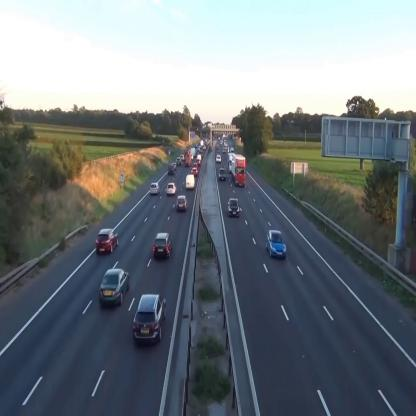car: (132, 292, 166, 343), (99, 267, 130, 308), (95, 228, 118, 256), (266, 229, 286, 259), (153, 233, 173, 259), (228, 198, 239, 217), (176, 194, 187, 212), (150, 182, 160, 195), (166, 183, 176, 195), (218, 168, 226, 181), (167, 164, 174, 174), (192, 167, 198, 176), (216, 155, 221, 163), (176, 157, 181, 164)
lorry: (231, 153, 245, 186), (186, 174, 194, 189), (184, 150, 191, 166)
